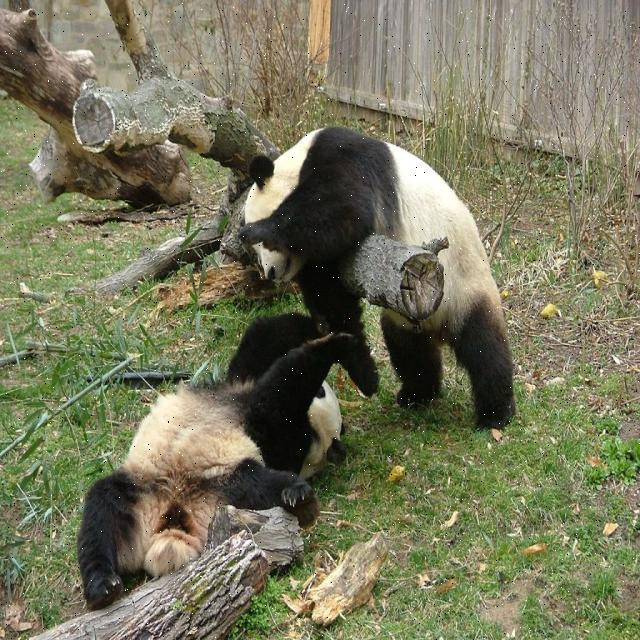panda: (77, 309, 379, 613), (240, 124, 516, 427)
